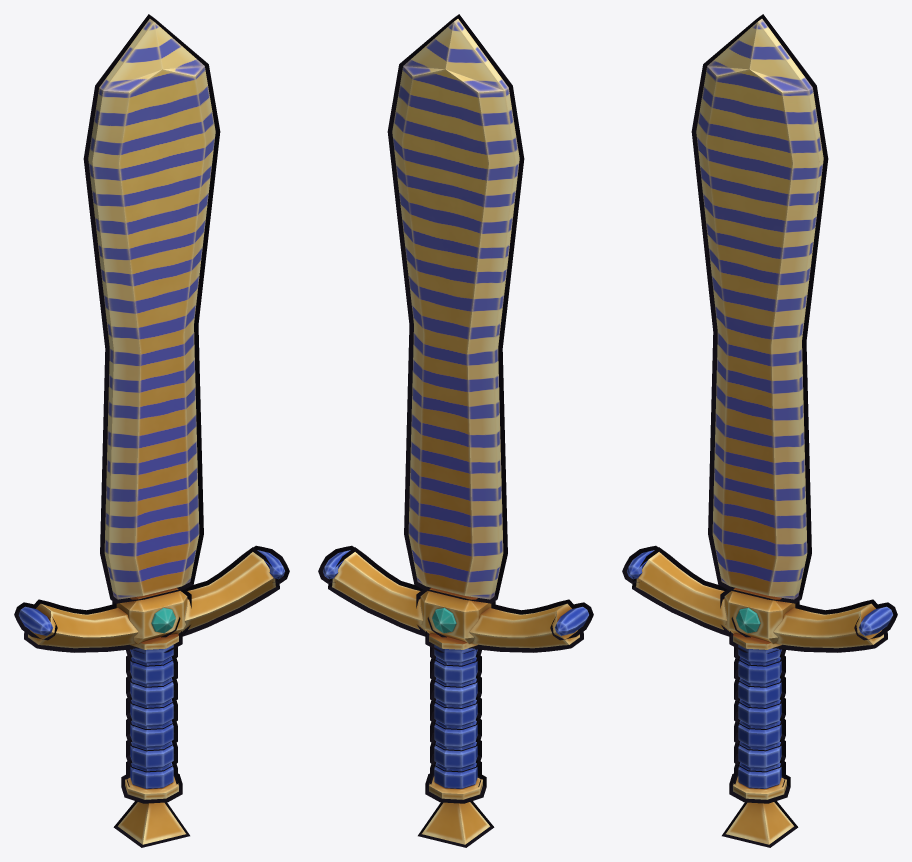
Rendered from PharaohSword.fbx.
3 views of the same model, side by side, from view 1: azimuth 30°, elevation 25°; view 2: azimuth 150°, elevation 25°; view 3: azimuth 330°, elevation 25° (orthographic).
Visible parts, largest first — view 1: PharaohSword, PharaohSwordOutline; view 2: PharaohSword, PharaohSwordOutline; view 3: PharaohSword, PharaohSwordOutline.
Boxes of the visible parts, bbox=[...] form: PharaohSword: bbox=[19, 19, 284, 844]; PharaohSwordOutline: bbox=[14, 14, 289, 847]; PharaohSword: bbox=[323, 19, 588, 844]; PharaohSwordOutline: bbox=[318, 14, 593, 847]; PharaohSword: bbox=[627, 19, 892, 844]; PharaohSwordOutline: bbox=[622, 14, 897, 847].
Bounding box in the file's own units: 142 × 430 × 34.4.
Materials: 2 (1 with a texture image).
